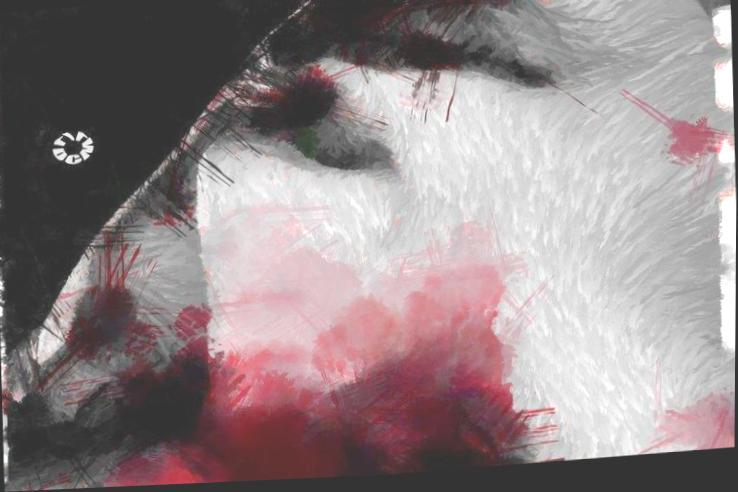Fire: (5, 272, 554, 492), (250, 68, 341, 138), (642, 400, 735, 460), (666, 122, 735, 172)
